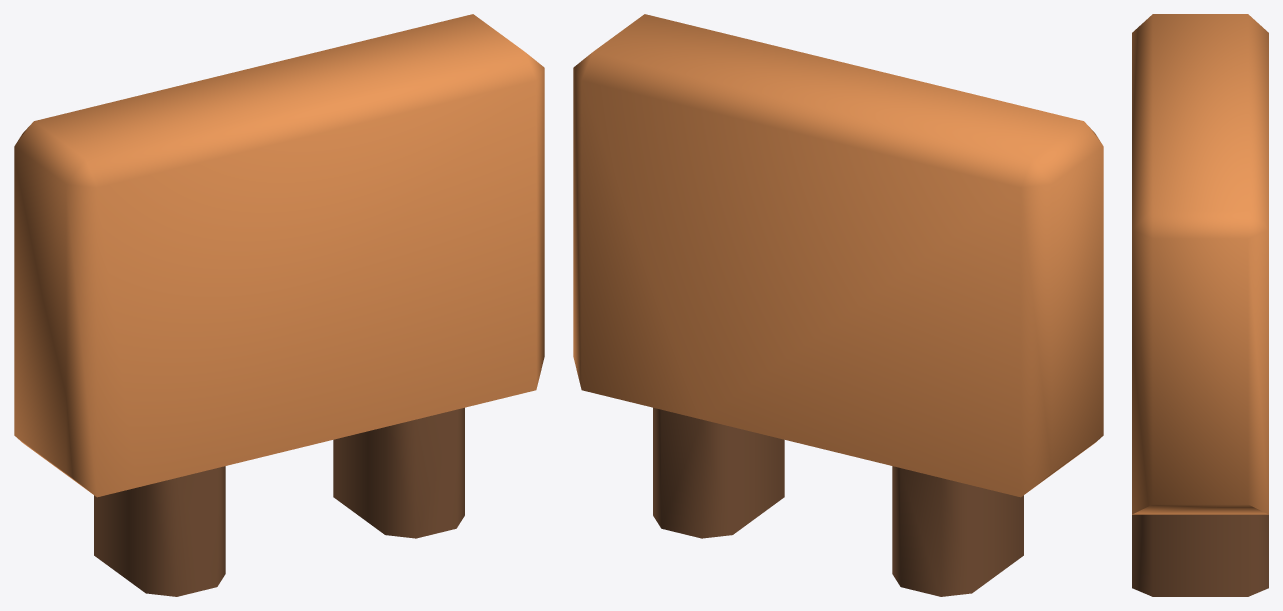
The model's file is Signboard.fbx.
3 views of the same model, side by side, from view 1: azimuth 30°, elevation 25°; view 2: azimuth 150°, elevation 25°; view 3: azimuth 270°, elevation 25° (orthographic). The views are drawn at different scales.
Visible parts, largest first — view 1: Cube.536; view 2: Cube.536; view 3: Cube.536.
Part boxes in pixels (box(x1,y1,x2,y2)): Cube.536: box(14, 14, 544, 596); Cube.536: box(573, 14, 1103, 596); Cube.536: box(1132, 14, 1268, 596).
Size of the model in its own units: 23.9 by 21.43 by 6.44.
